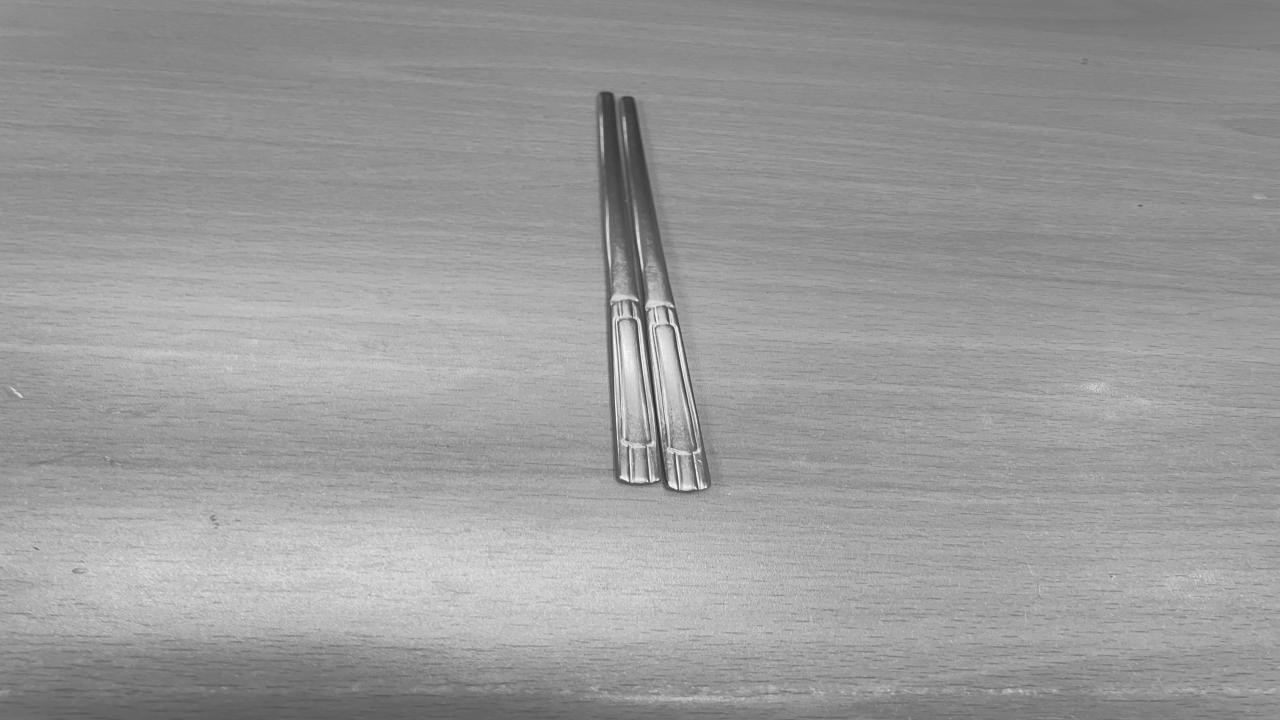chopstick: (597, 94, 711, 489)
